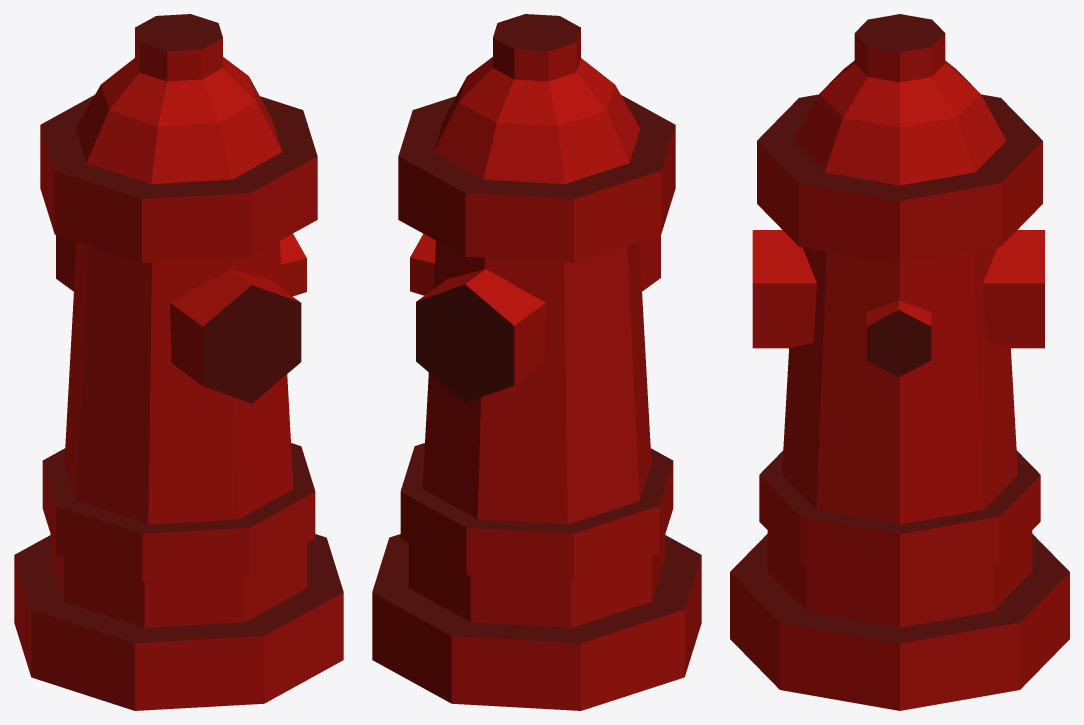
File: Fire_hydrant.fbx
3 renders of one model, left to right at view 1: azimuth 30°, elevation 25°; view 2: azimuth 150°, elevation 25°; view 3: azimuth 270°, elevation 25°, orthographic.
Visible parts, largest first — view 1: Circle; view 2: Circle; view 3: Circle.
Part boxes in pixels (x1,y1,x2,y2): Circle: (14, 14, 343, 710); Circle: (372, 14, 701, 710); Circle: (730, 14, 1069, 710).
Bounding box in the file's own units: 0.2582 × 0.5083 × 0.2582.
